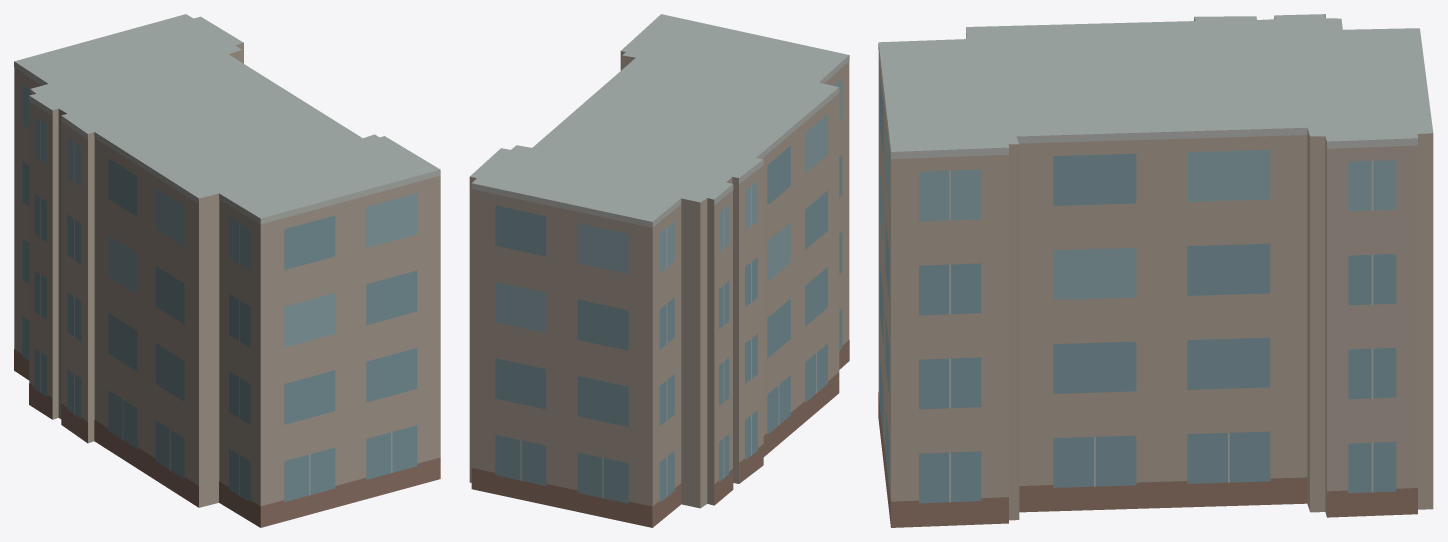
The model's file is survey-upis-32631358.glb.
3 renders of one model, left to right at view 1: azimuth 30°, elevation 25°; view 2: azimuth 150°, elevation 25°; view 3: azimuth 270°, elevation 25°, orthographic. The views are drawn at different scales.
Parts seen in each view (by area): view 1: survey-upis-32631358.tmp; view 2: survey-upis-32631358.tmp; view 3: survey-upis-32631358.tmp.
Part boxes in pixels (left/top/right/bottom): survey-upis-32631358.tmp: left=14, top=14, right=440, bottom=527; survey-upis-32631358.tmp: left=469, top=14, right=849, bottom=527; survey-upis-32631358.tmp: left=878, top=14, right=1433, bottom=527.
Size of the model in its own units: 10.01 by 12.7 by 17.
